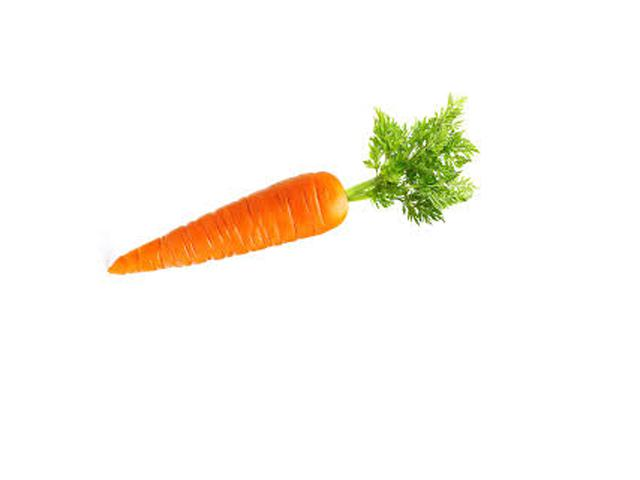carrot: (94, 164, 354, 281)
